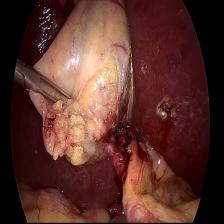Grasper: (13, 62, 73, 116)
